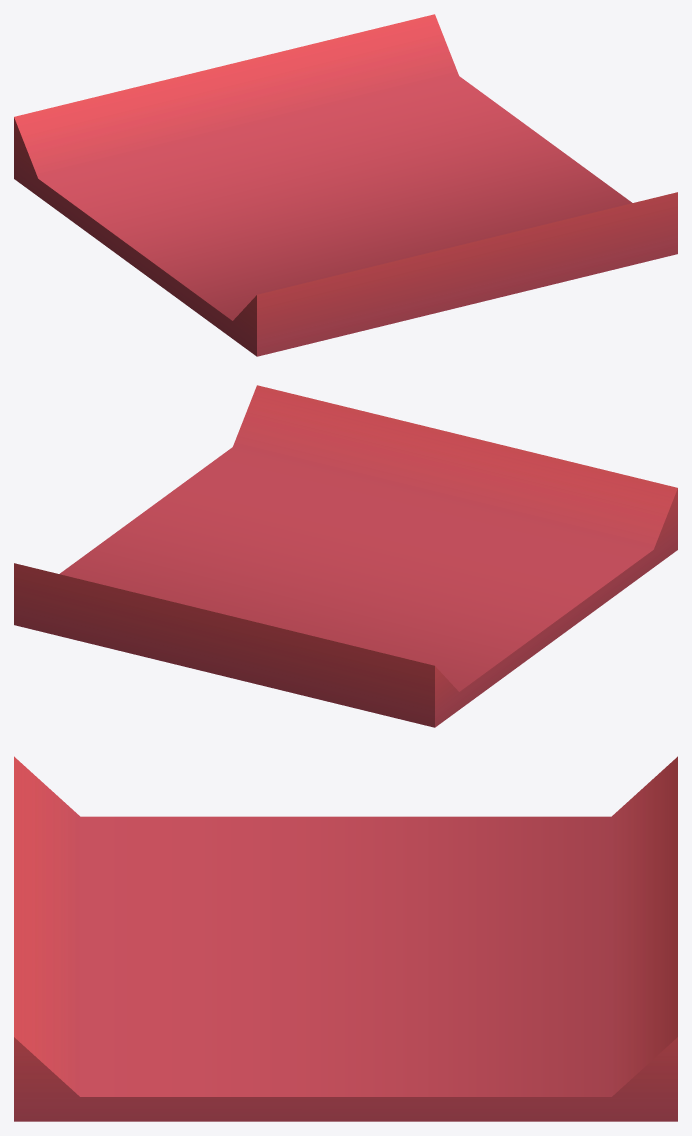
Rendered from kenney-fantasy-town-roof-high-flat.glb.
3 renders of one model, top to bottom at view 1: azimuth 30°, elevation 25°; view 2: azimuth 150°, elevation 25°; view 3: azimuth 270°, elevation 25°, orthographic. The views are drawn at different scales.
Parts seen in each view (by area): view 1: roof-high-flat; view 2: roof-high-flat; view 3: roof-high-flat.
Part boxes in pixels (x1,y1,x2,y2): roof-high-flat: (14,14,677,356); roof-high-flat: (14,385,677,727); roof-high-flat: (14,756,677,1121).
Size of the model in its own units: 1 by 0.1408 by 1.
Materials: 1 (1 with a texture image).
